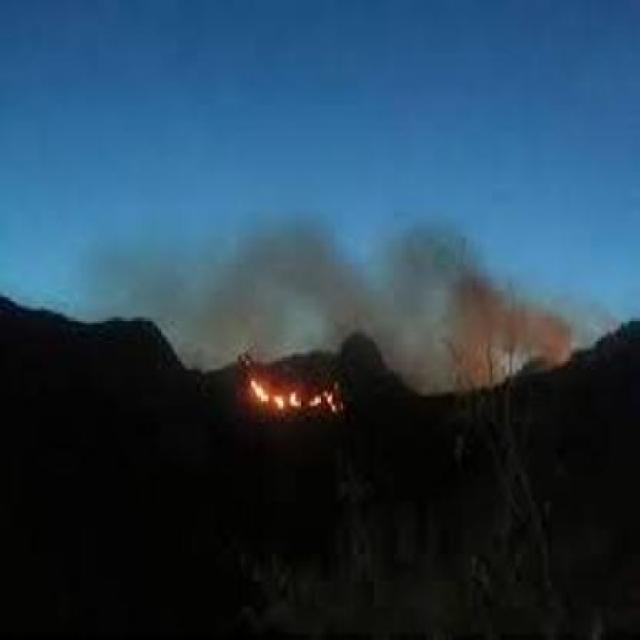Fire: (247, 372, 341, 416)
Smoke: (172, 234, 564, 378)
